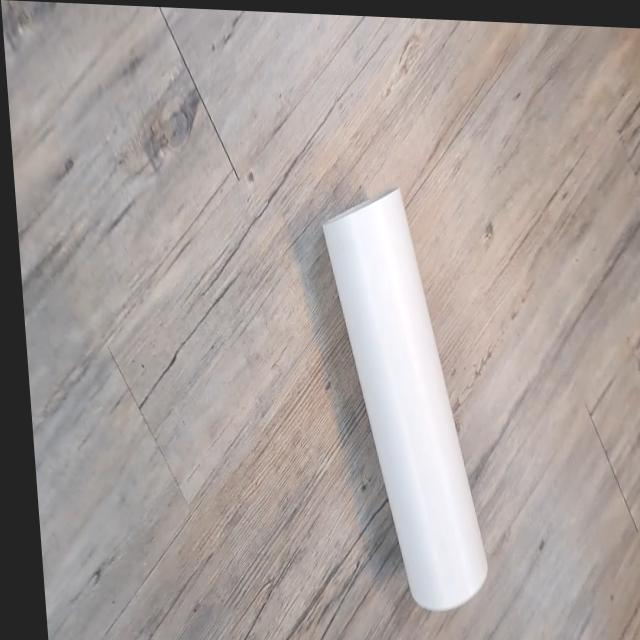CORAL: (309, 174, 500, 631)
